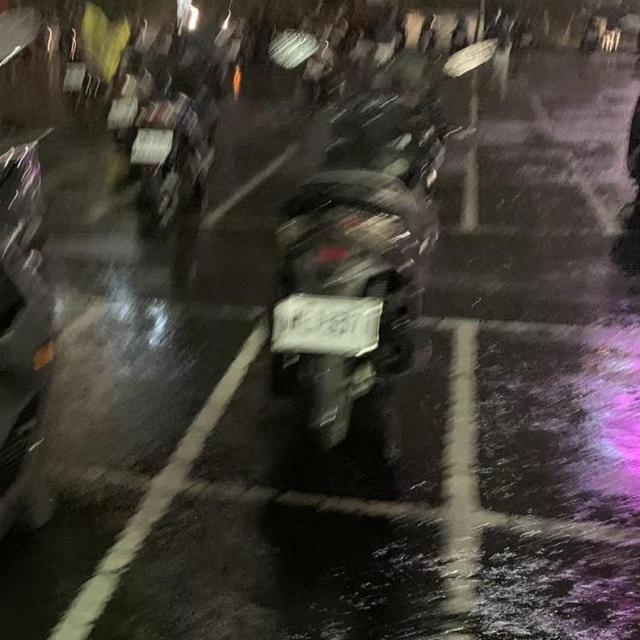W: (259, 268, 389, 363)
